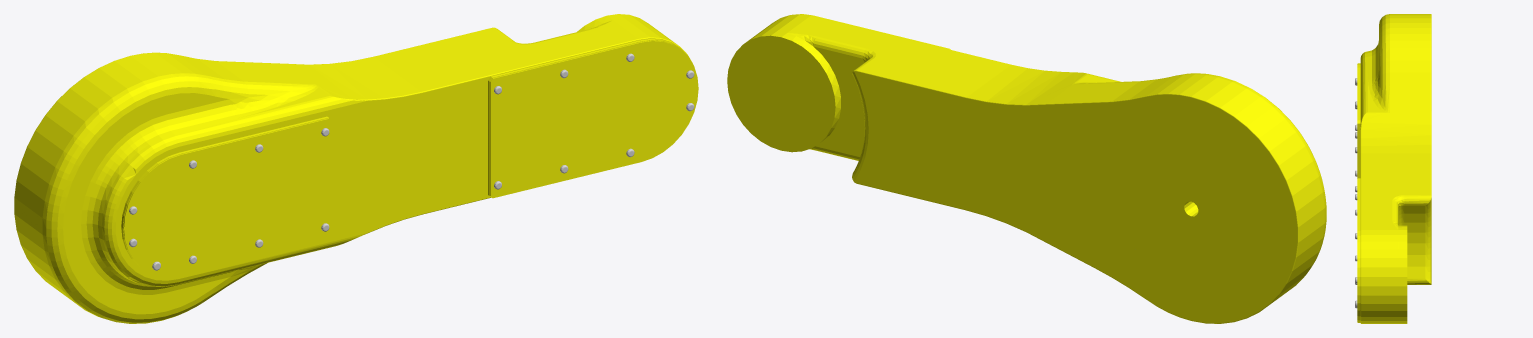
3 renders of one model, left to right at view 1: azimuth 30°, elevation 25°; view 2: azimuth 150°, elevation 25°; view 3: azimuth 270°, elevation 25°, orthographic. The views are drawn at different scales.
Visible parts, largest first — view 1: node; view 2: node; view 3: node.
Part boxes in pixels (x1,y1,x2,y2): node: (14,14,698,323); node: (727,14,1326,323); node: (1355,14,1431,323).
Size of the model in its own units: 1104 by 404 by 339.
